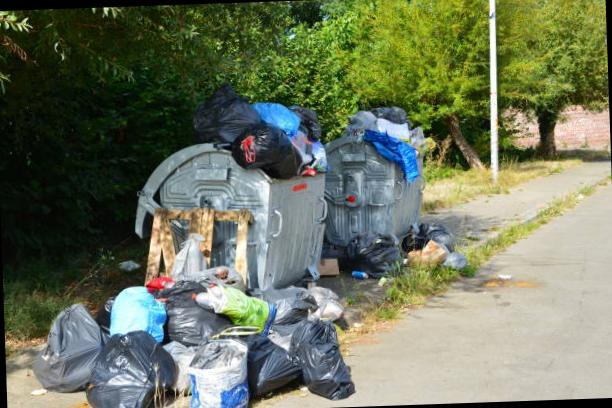trash: (27, 264, 359, 408), (180, 258, 310, 358), (27, 279, 114, 408), (155, 266, 248, 359), (91, 314, 179, 408), (352, 96, 431, 174), (263, 86, 329, 176), (290, 303, 346, 406), (107, 266, 175, 346), (198, 327, 262, 408), (332, 225, 410, 280), (237, 325, 295, 398), (226, 118, 304, 172), (406, 216, 470, 279), (271, 278, 342, 331), (154, 332, 210, 397), (203, 70, 252, 144), (243, 90, 300, 130)
trash_can_overflow: (114, 81, 352, 326), (313, 98, 451, 288)
